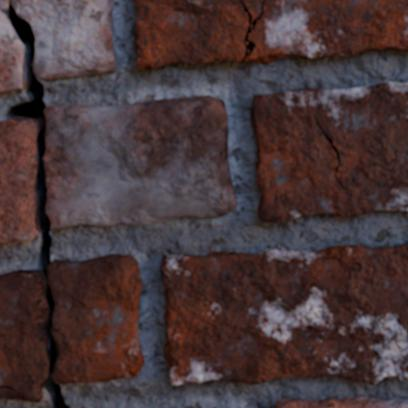brick: (162, 243, 407, 384), (251, 82, 407, 221), (246, 0, 407, 62), (135, 0, 247, 67), (276, 398, 407, 407), (243, 0, 262, 18), (77, 405, 86, 407)
broken_brick: (44, 94, 237, 228), (49, 253, 145, 384), (0, 0, 117, 93), (0, 269, 47, 403), (0, 119, 37, 244)
crack: (1, 1, 69, 407), (239, 0, 266, 62), (0, 384, 16, 392)
